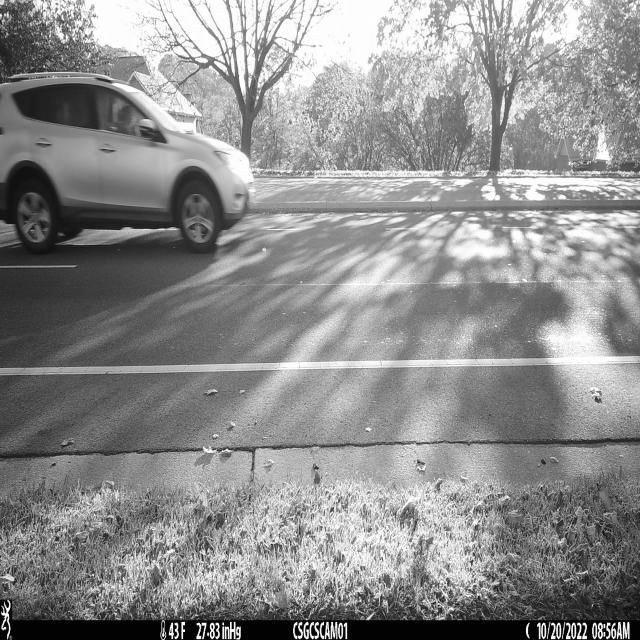SUV: (0, 72, 254, 255)
